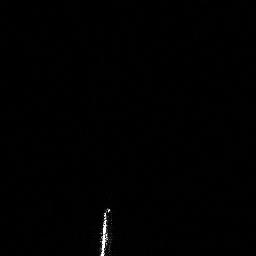ship: (94, 204, 116, 256)
